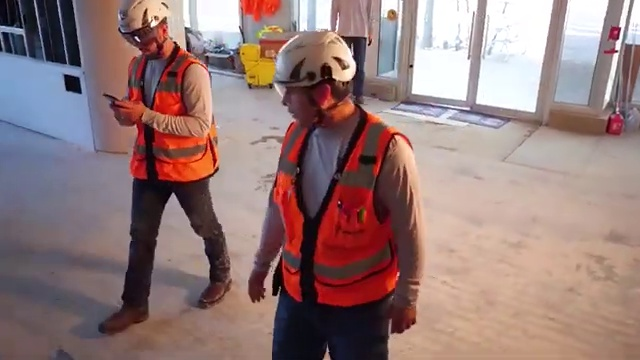helmet: (268, 32, 358, 85), (116, 1, 172, 35)
jacket: (276, 117, 405, 309), (129, 57, 216, 178)
